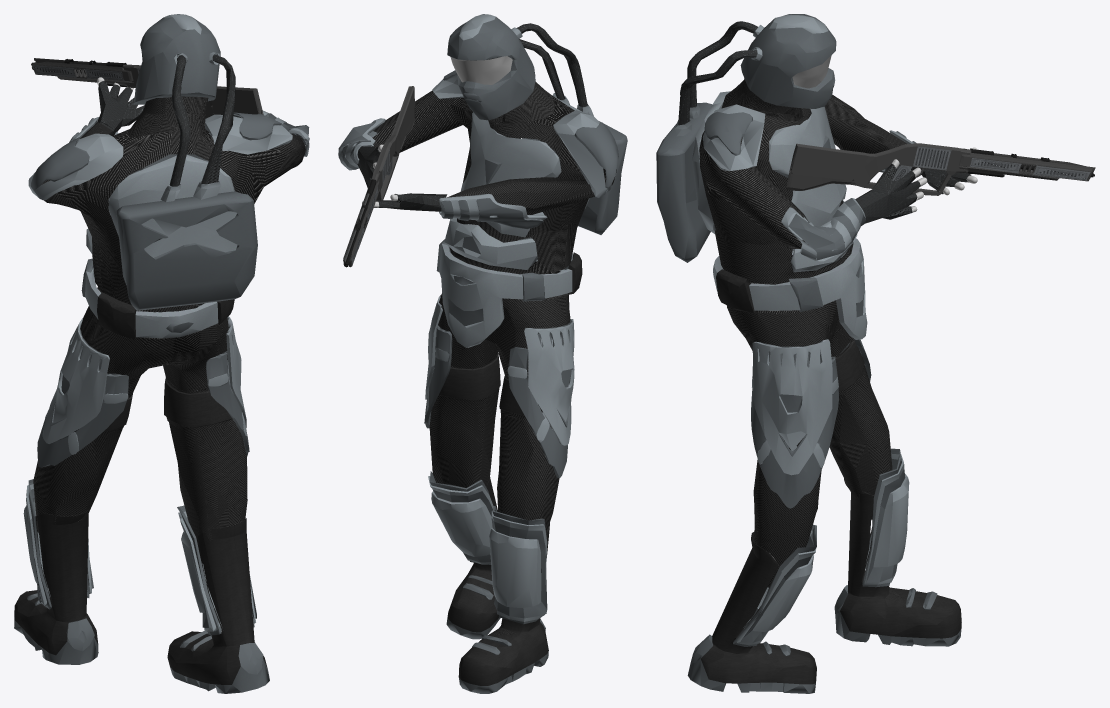
Rendered from AndarEscopeta.0013.obj.
3 views of the same model, side by side, from view 1: azimuth 30°, elevation 25°; view 2: azimuth 150°, elevation 25°; view 3: azimuth 270°, elevation 25° (orthographic). The views are drawn at different scales.
Visible parts, largest first — view 1: personaje:extrudedSurface2 polySurface94, personaje:bota1 polySurface94, personaje:PANTALON polySurface94, personaje:CAMISETABUENA polySurface94, personaje:pPipe4 polySurface94, personaje:pCube4 polySurface94, personaje:cosoarmdaurapierna1 polySurface94, personaje:cinturon polySurface94, escopeta:Cylinder001 polySurface94, personaje:armadbota1 polySurface94, personaje:polySurface6 polySurface94, personaje:HOMBRO2 polySurface94 (+4 smaller); view 2: personaje:PANTALON polySurface94, personaje:CAMISETABUENA polySurface94, personaje:pPipe4 polySurface94, personaje:extrudedSurface2 polySurface94, personaje:bota1 polySurface94, personaje:armadbota1 polySurface94, personaje:cinturon polySurface94, personaje:pCube4 polySurface94, personaje:cosoarmdaurapierna1 polySurface94, escopeta:Cylinder001 polySurface94, personaje:polySurface6 polySurface94, personaje:polySurface2 polySurface94 (+7 smaller); view 3: personaje:bota1 polySurface94, personaje:CAMISETABUENA polySurface94, personaje:PANTALON polySurface94, personaje:extrudedSurface2 polySurface94, personaje:pPipe4 polySurface94, personaje:pCube4 polySurface94, escopeta:Cylinder001 polySurface94, personaje:cinturon polySurface94, personaje:armadbota1 polySurface94, personaje:cosoarmadurapierna2 polySurface94, personaje:hombro1 polySurface94, personaje:partearmdBRAZO2 polySurface94 (+2 smaller).
Part boxes in pixels (bbox=[...]): personaje:extrudedSurface2 polySurface94: bbox=[116, 14, 257, 310]; personaje:bota1 polySurface94: bbox=[14, 510, 269, 693]; personaje:PANTALON polySurface94: bbox=[33, 287, 247, 563]; personaje:CAMISETABUENA polySurface94: bbox=[41, 96, 305, 339]; personaje:pPipe4 polySurface94: bbox=[28, 80, 309, 253]; personaje:pCube4 polySurface94: bbox=[28, 305, 256, 635]; personaje:cosoarmdaurapierna1 polySurface94: bbox=[42, 318, 128, 454]; personaje:cinturon polySurface94: bbox=[81, 258, 234, 339]; escopeta:Cylinder001 polySurface94: bbox=[31, 58, 263, 118]; personaje:armadbota1 polySurface94: bbox=[23, 484, 255, 631]; personaje:polySurface6 polySurface94: bbox=[103, 377, 232, 432]; personaje:HOMBRO2 polySurface94: bbox=[31, 137, 89, 189]; personaje:PANTALON polySurface94: bbox=[429, 261, 570, 532]; personaje:CAMISETABUENA polySurface94: bbox=[372, 57, 616, 300]; personaje:pPipe4 polySurface94: bbox=[338, 75, 611, 269]; personaje:extrudedSurface2 polySurface94: bbox=[447, 14, 627, 234]; personaje:bota1 polySurface94: bbox=[446, 477, 549, 693]; personaje:armadbota1 polySurface94: bbox=[428, 476, 547, 621]; personaje:cinturon polySurface94: bbox=[436, 234, 582, 347]; personaje:pCube4 polySurface94: bbox=[425, 294, 571, 624]; personaje:cosoarmdaurapierna1 polySurface94: bbox=[507, 319, 574, 445]; escopeta:Cylinder001 polySurface94: bbox=[343, 86, 415, 267]; personaje:polySurface6 polySurface94: bbox=[439, 353, 524, 415]; personaje:polySurface2 polySurface94: bbox=[441, 198, 543, 229]; personaje:bota1 polySurface94: bbox=[687, 479, 961, 693]; personaje:CAMISETABUENA polySurface94: bbox=[699, 79, 907, 313]; personaje:PANTALON polySurface94: bbox=[727, 255, 892, 587]; personaje:extrudedSurface2 polySurface94: bbox=[656, 14, 836, 262]; personaje:pPipe4 polySurface94: bbox=[692, 78, 971, 272]; personaje:pCube4 polySurface94: bbox=[733, 339, 905, 646]; escopeta:Cylinder001 polySurface94: bbox=[786, 143, 1095, 195]; personaje:cinturon polySurface94: bbox=[713, 238, 867, 339]; personaje:armadbota1 polySurface94: bbox=[736, 453, 909, 645]; personaje:cosoarmadurapierna2 polySurface94: bbox=[751, 349, 838, 508]; personaje:hombro1 polySurface94: bbox=[704, 111, 752, 155]; personaje:partearmdBRAZO2 polySurface94: bbox=[781, 198, 865, 261].
Bounding box in the file's own units: 4.24 × 9.61 × 5.71.
